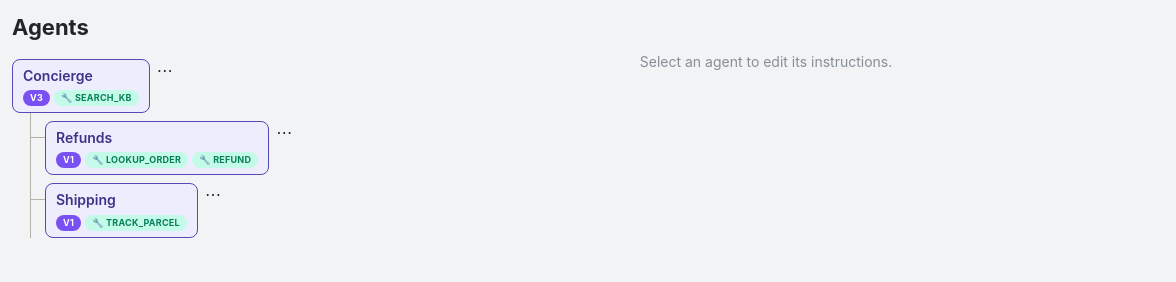
Test: AgentsPage tree view › ⋯ View recent conversations lists ?agent_id=-filtered conversations
Click the button named "Actions for Refunds" at [284, 132], box top-left (273, 121), bottom-right (295, 143)
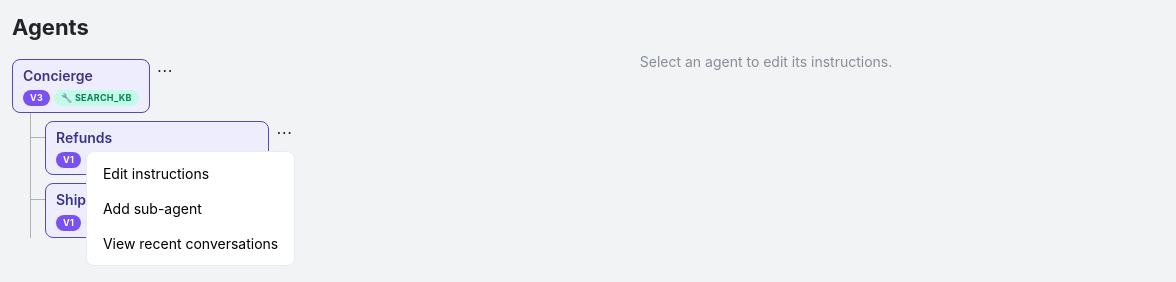
Click the menu item "View recent conversations" at [191, 244], box top-left (91, 226), bottom-right (290, 261)
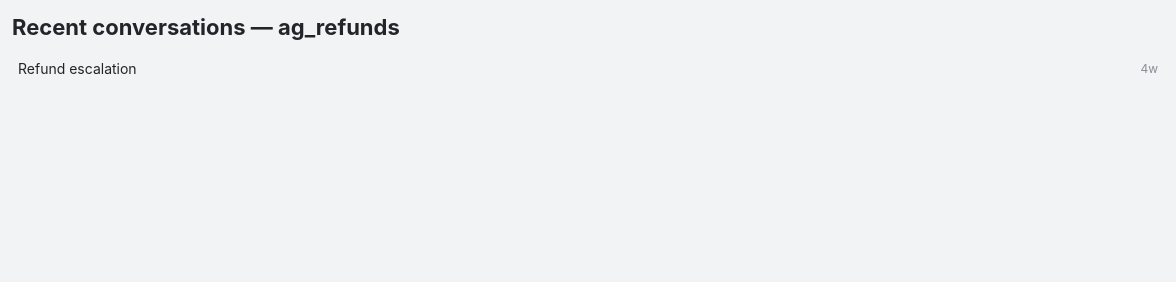
Check: the heading "Recent conversations — ag_refunds" is shown, box top-left (12, 14), bottom-right (400, 40)
Check: the text "Refund escalation" is shown, box top-left (18, 59), bottom-right (137, 79)
